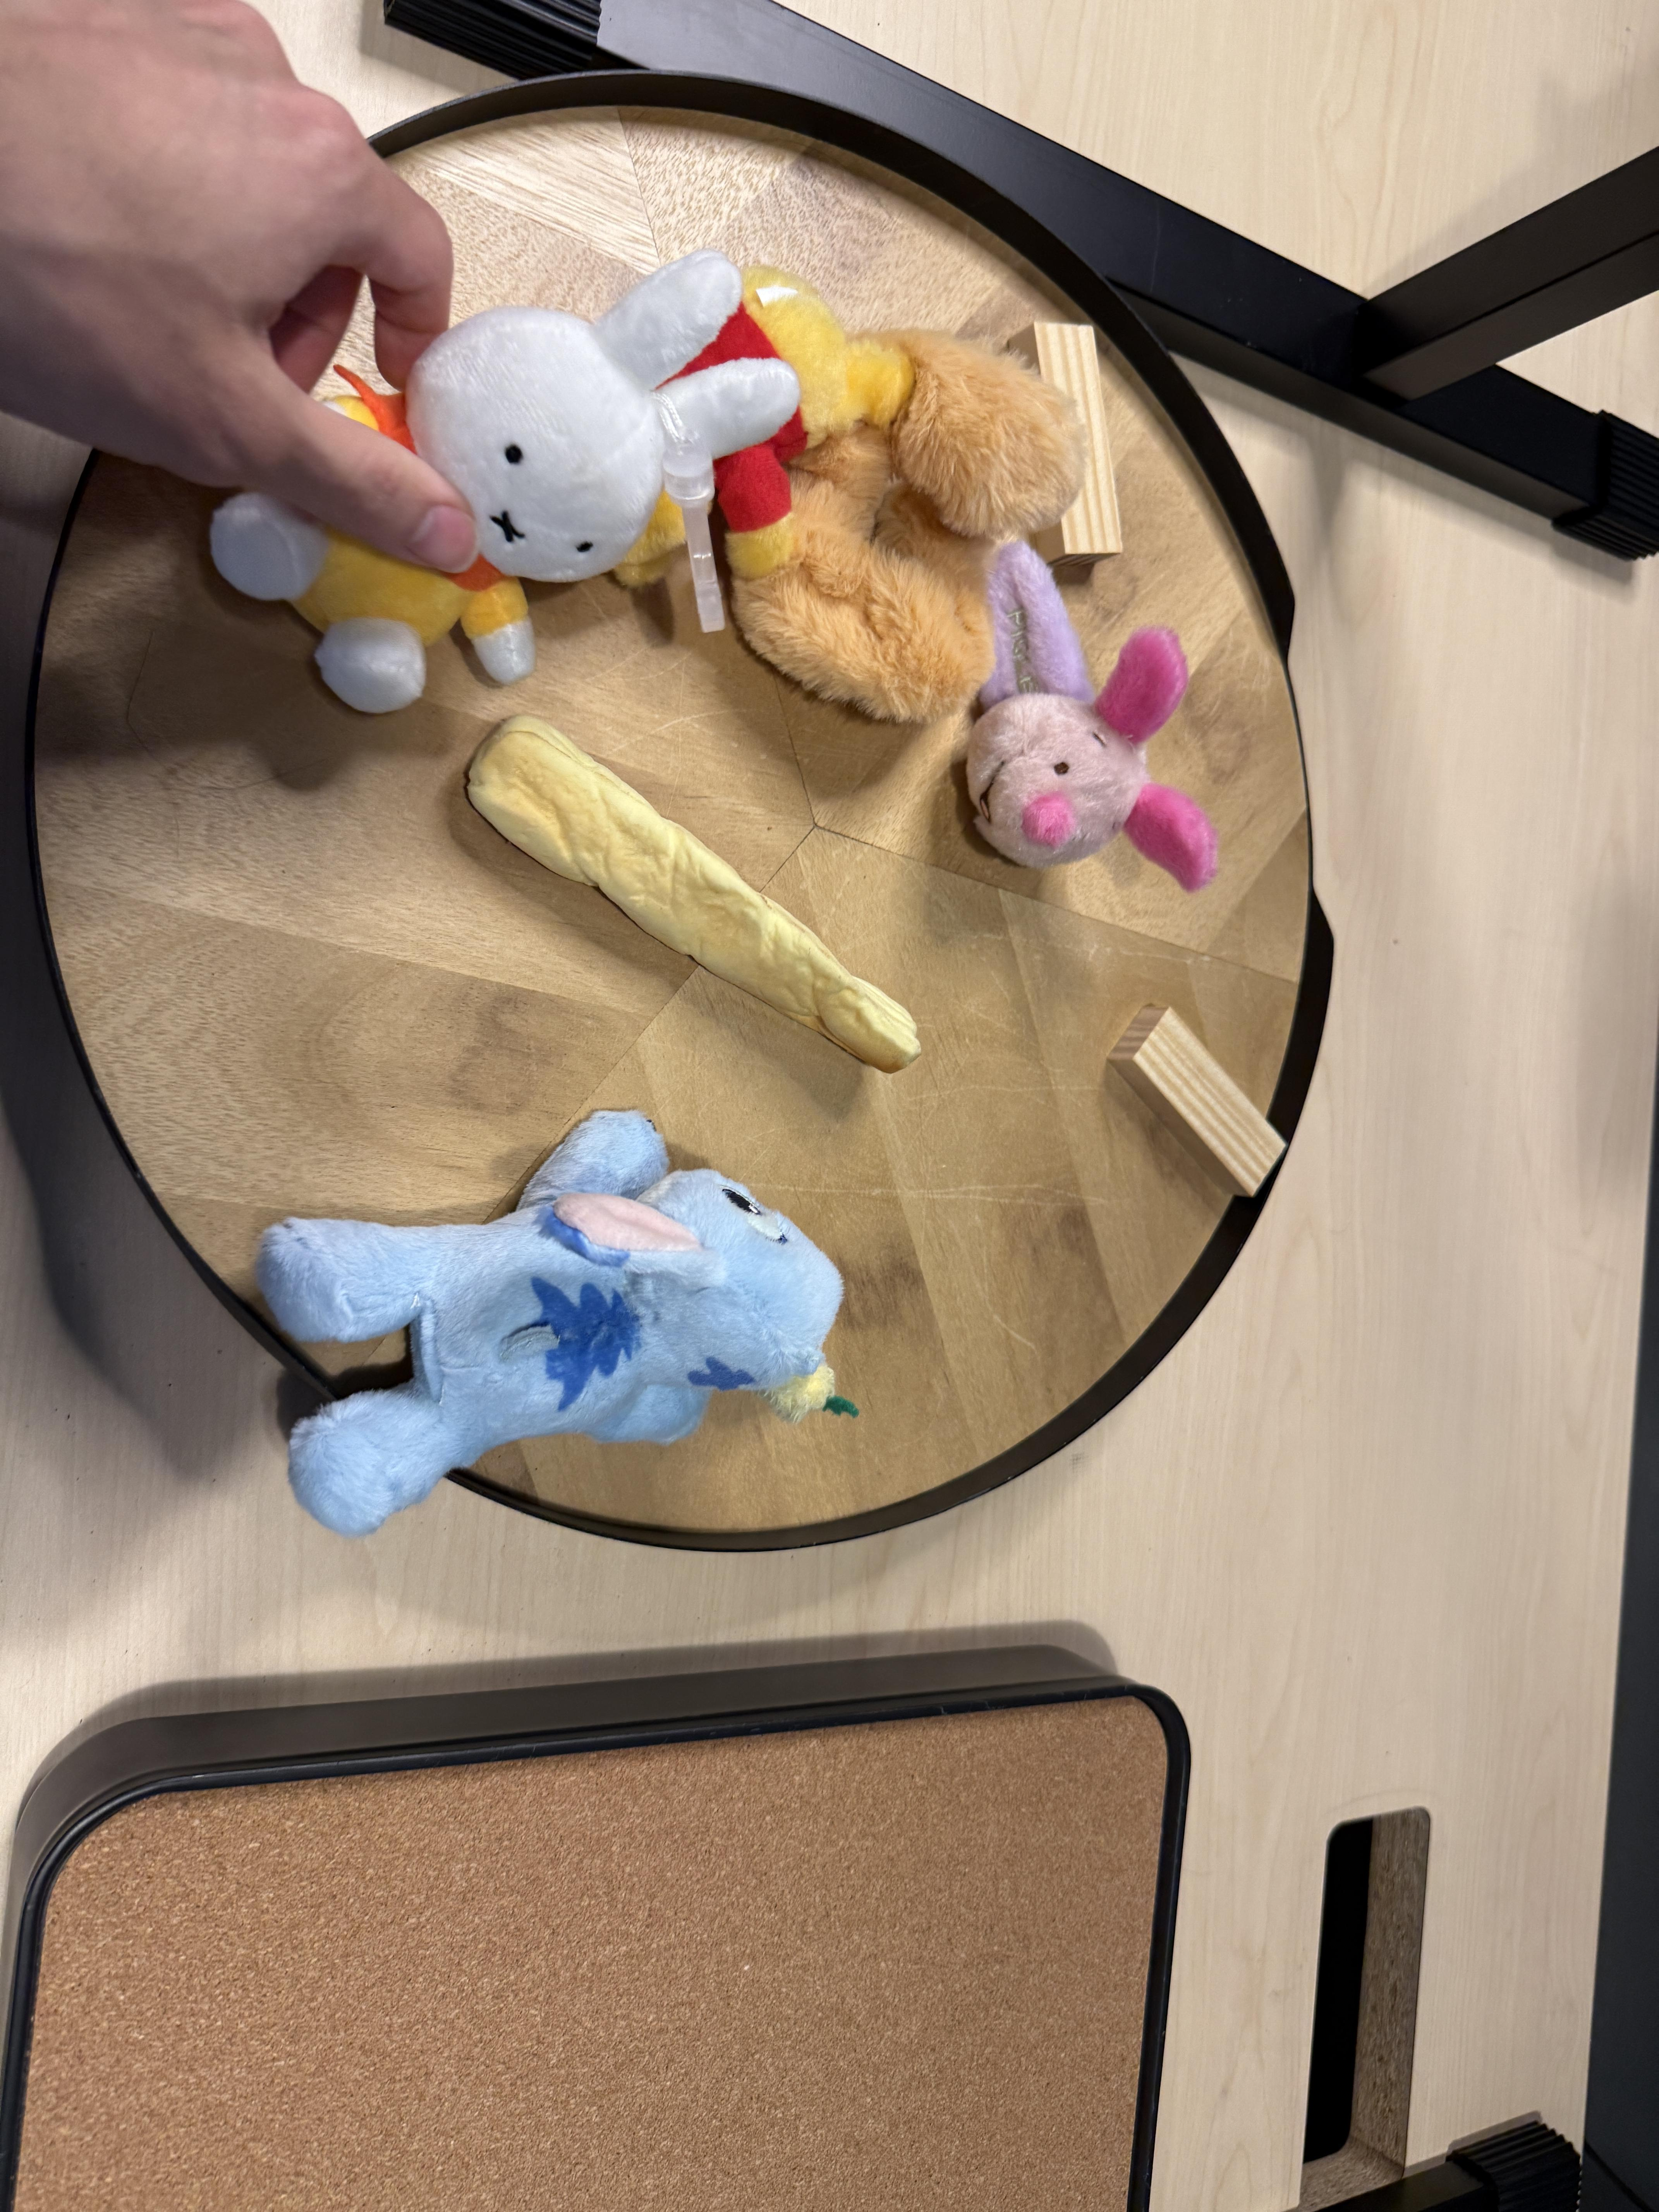block: (1122, 988, 1293, 1207), (1026, 314, 1126, 554)
bread: (465, 716, 931, 1064)
doll: (256, 1104, 854, 1545), (263, 266, 795, 712), (599, 275, 1091, 719), (969, 535, 1220, 913)
